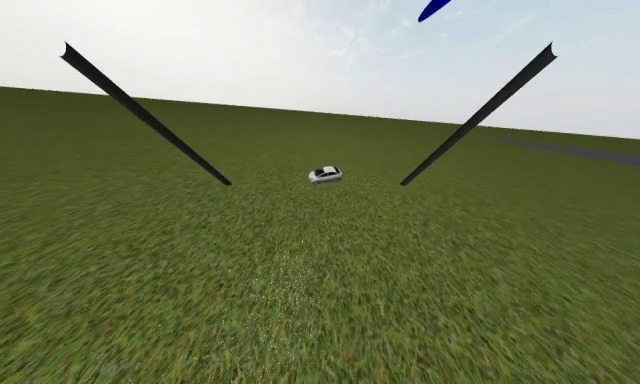Car: (306, 164, 344, 185)
